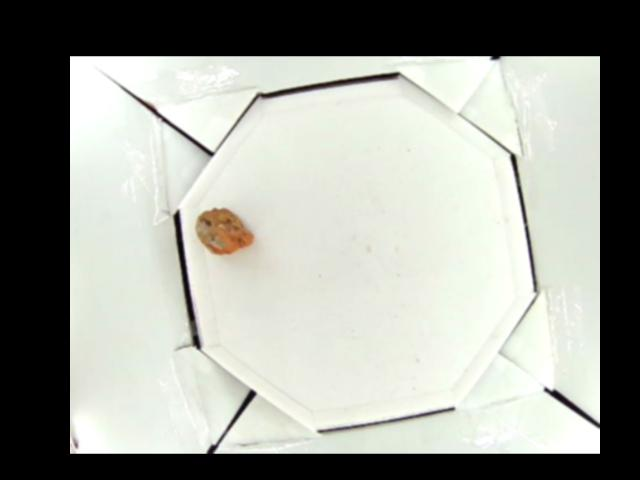Brisk: (198, 206, 251, 257)
